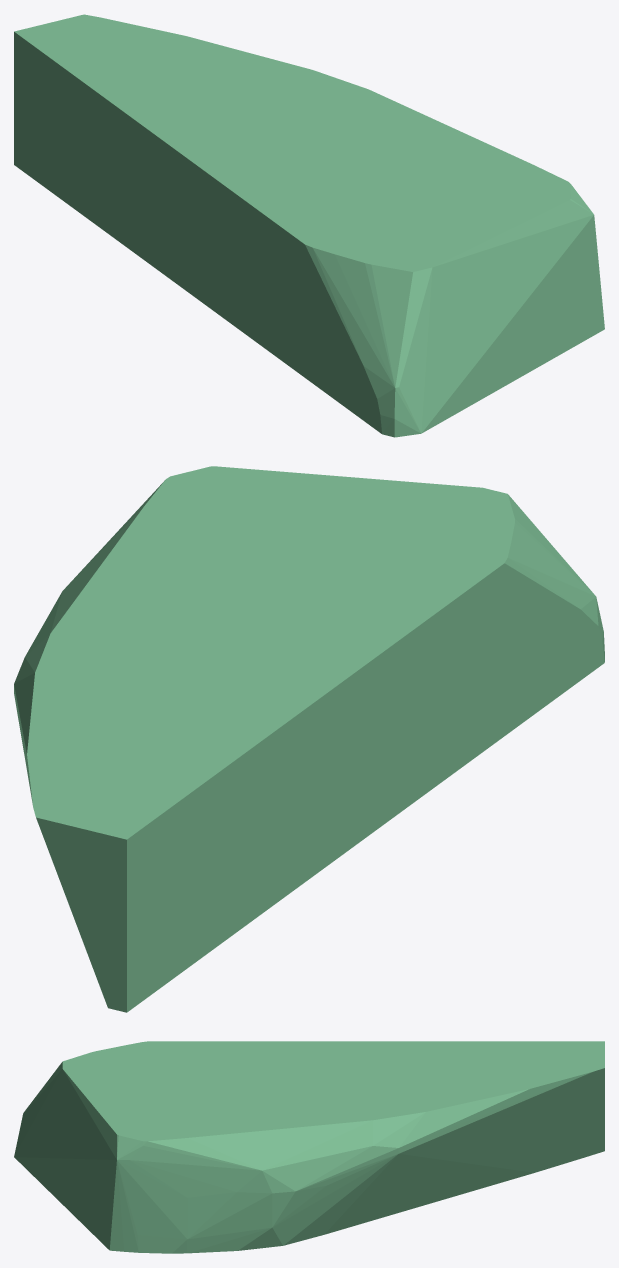
3 views of the same model, one above another, from view 1: azimuth 30°, elevation 25°; view 2: azimuth 150°, elevation 25°; view 3: azimuth 270°, elevation 25° (orthographic). The views are drawn at different scales.
Bounding box in the file's own units: 0.0176 × 0.00792 × 0.0406.
